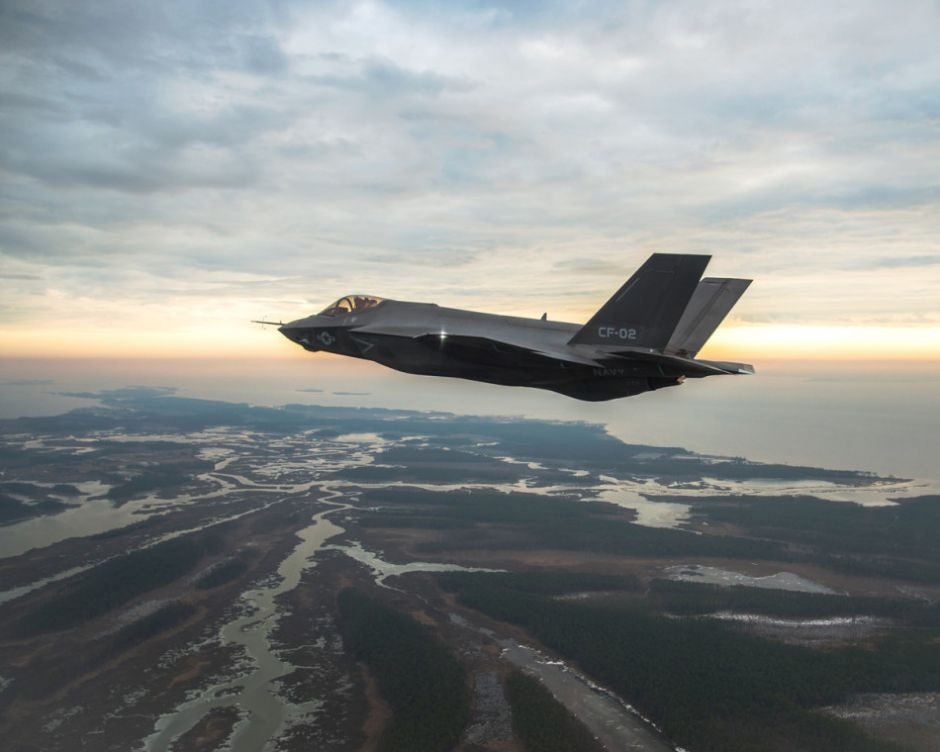otherboat: (248, 242, 761, 401)
